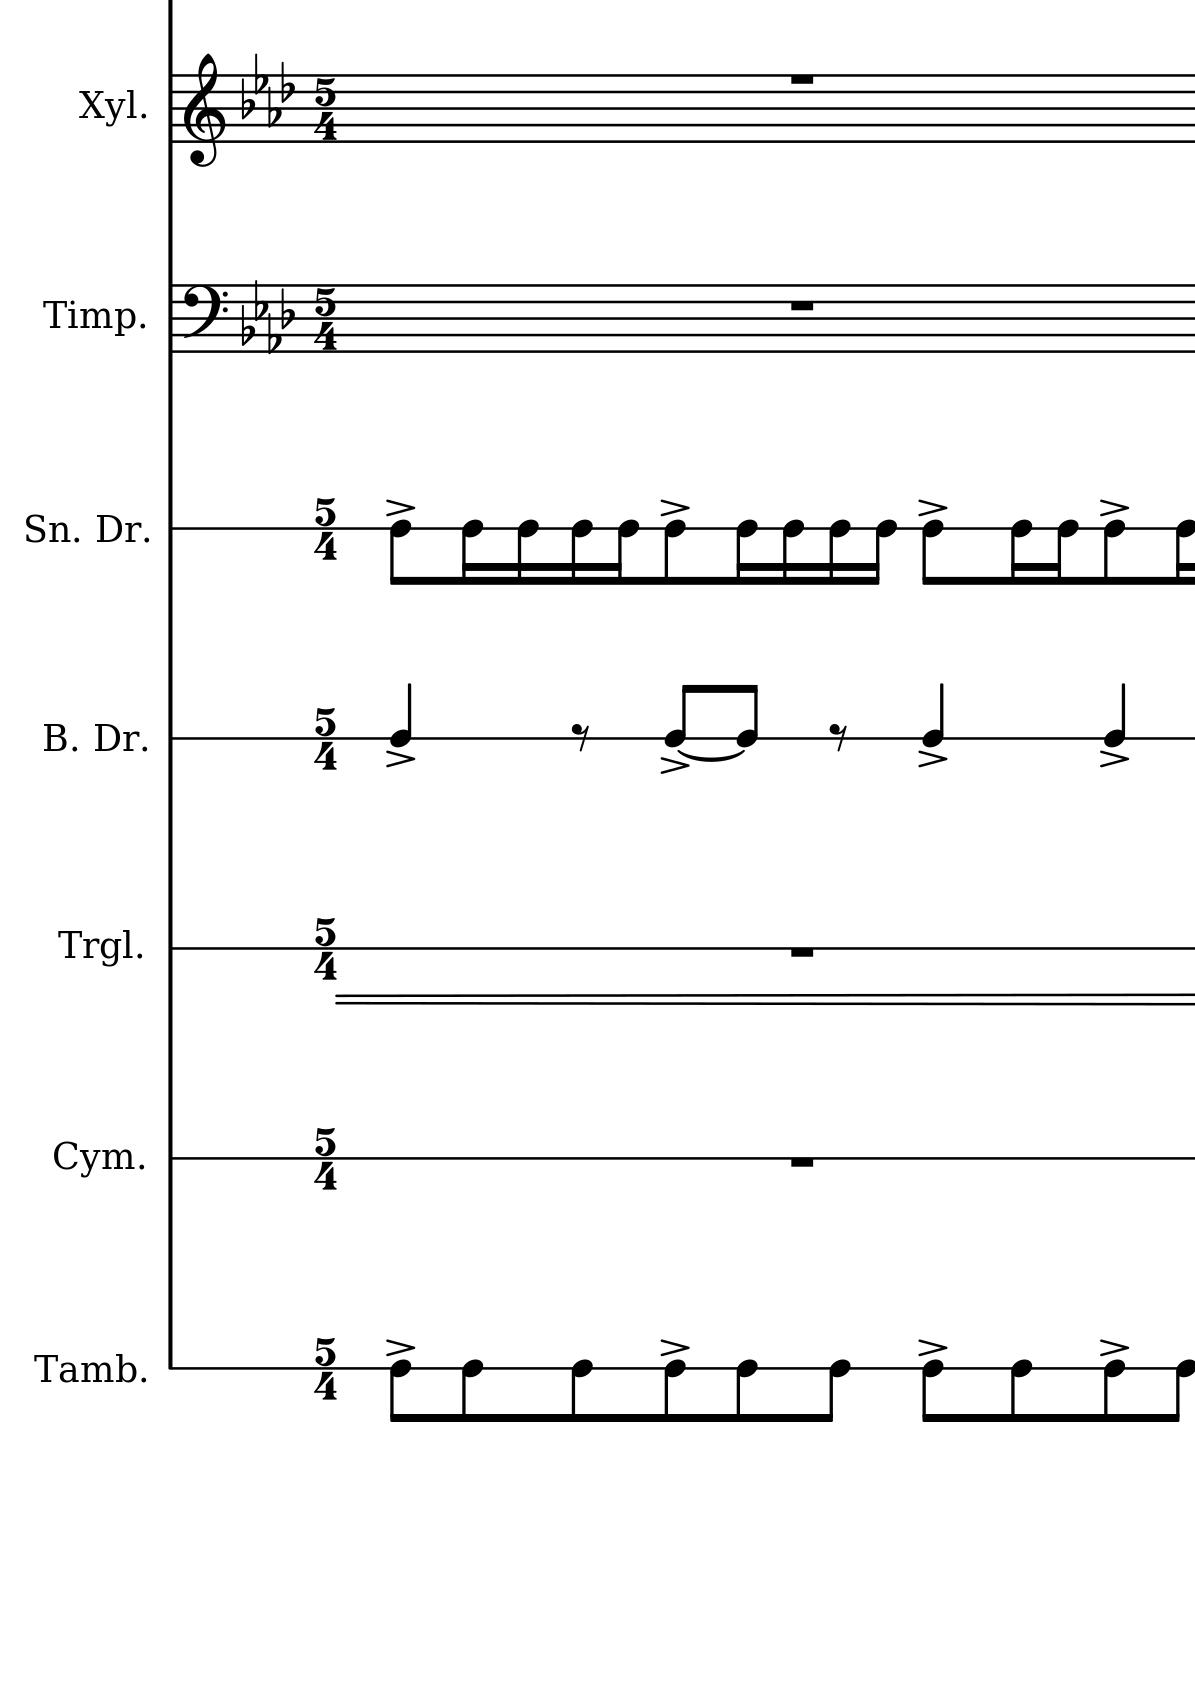16_4: (607, 517, 639, 588), (865, 516, 898, 587), (1049, 517, 1079, 590), (513, 516, 539, 588), (568, 516, 594, 588), (735, 517, 759, 590), (780, 516, 804, 588), (826, 517, 851, 588), (460, 517, 484, 590), (1009, 518, 1033, 587), (1174, 518, 1195, 587)
4: (310, 317, 340, 352), (310, 107, 340, 141), (310, 948, 340, 981), (310, 1158, 340, 1192), (312, 1368, 339, 1403), (310, 739, 340, 771), (312, 529, 340, 561)
4_4: (388, 681, 414, 747), (920, 680, 945, 746), (1102, 683, 1128, 749)
5: (310, 703, 339, 739), (310, 1123, 338, 1158), (310, 914, 338, 948), (312, 1334, 339, 1368), (312, 74, 338, 109), (312, 284, 338, 318), (312, 494, 338, 527)
8_4: (665, 683, 694, 749), (823, 1357, 851, 1425), (1101, 516, 1126, 590), (920, 516, 945, 587), (662, 516, 687, 590), (388, 1352, 413, 1425), (920, 1354, 944, 1426), (1101, 1357, 1126, 1426), (388, 516, 413, 587), (662, 1356, 687, 1425), (569, 1357, 594, 1425), (733, 1357, 758, 1425), (1007, 1357, 1032, 1425), (1170, 1357, 1195, 1425), (736, 683, 760, 749), (459, 1357, 482, 1425)
A_F: (234, 48, 297, 128), (235, 275, 296, 352)
Accent_above: (914, 494, 949, 518), (914, 1335, 949, 1359), (1097, 495, 1130, 518), (383, 1335, 416, 1359), (657, 1335, 691, 1359), (382, 747, 416, 769), (1095, 1335, 1130, 1357), (1095, 749, 1132, 769), (382, 496, 415, 518), (657, 496, 691, 518), (914, 749, 949, 769), (657, 755, 691, 774)
Fclef: (180, 282, 229, 356)
Gclef: (181, 50, 228, 169)
Rests1: (785, 944, 817, 964), (785, 70, 817, 89), (785, 296, 817, 315), (785, 1154, 817, 1174)
Rests8: (569, 721, 591, 752), (826, 721, 848, 752)
Single_barline: (162, 75, 180, 144), (162, 284, 180, 353)
Slur: (678, 745, 745, 761)
TimeSig: (312, 284, 338, 353), (313, 1334, 338, 1405), (313, 74, 338, 144), (313, 915, 338, 985), (314, 705, 338, 774), (313, 1130, 338, 1195), (314, 494, 336, 564)
Timp: (40, 299, 138, 343)
